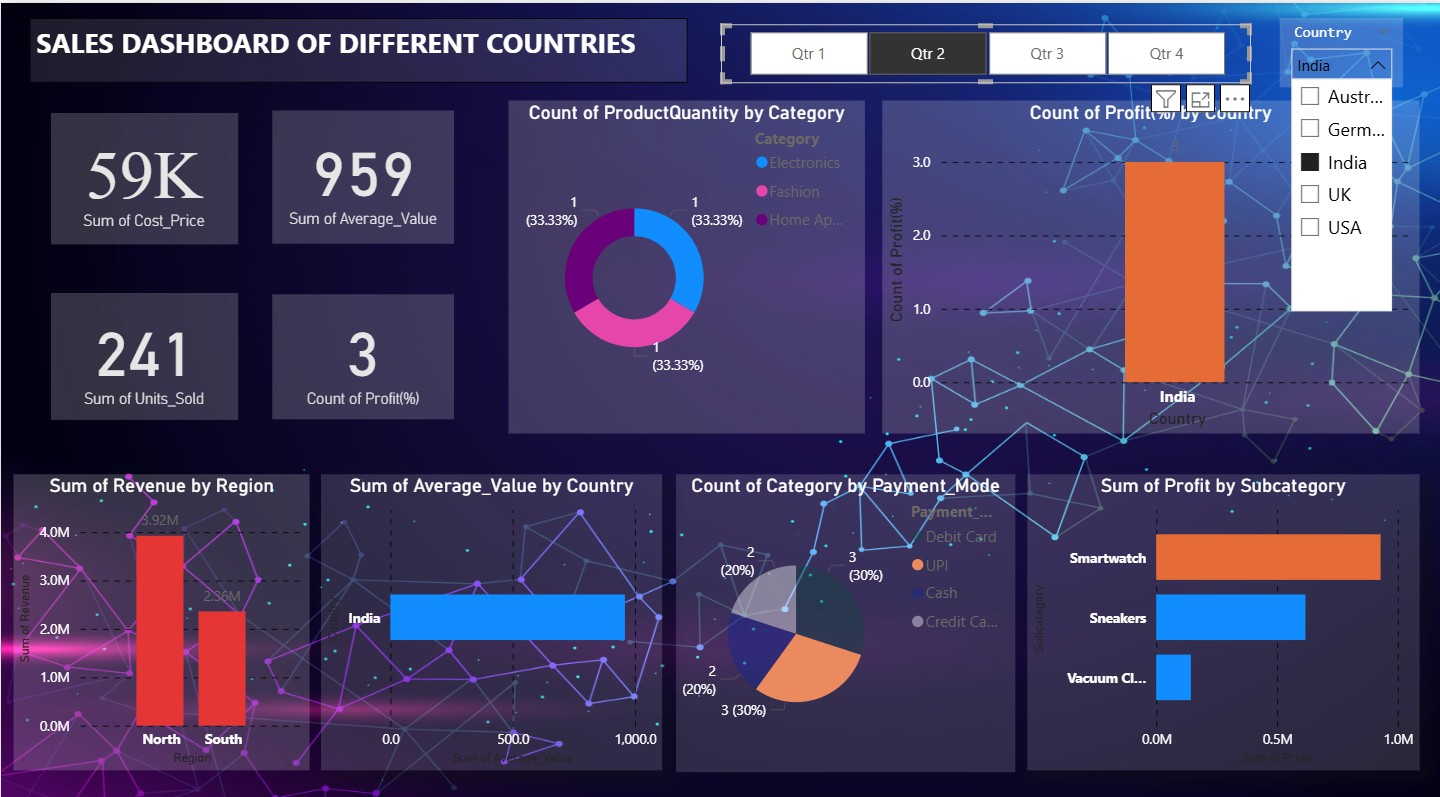

This screenshot's page, from the dashboard's own definition file:
{"tool":"powerbi","page":{"name":"Page 1","canvas":[1280,720],"ordinal":0},"visuals":[{"type":"textbox","box":[26.1,13.7,584.6,57.6],"z":0},{"type":"columnChart","fields":{"Y":["CountNonNull(Sheet1.Profit(%))"],"Category":["Sheet1.Country"]},"box":[783.5,86.4,477.5,296.4],"z":1000},{"type":"barChart","fields":{"Category":["Sheet1.Subcategory"],"Y":["Sum(Sheet1.Profit)"]},"box":[912.5,418.5,348.5,263.5],"z":2000},{"type":"donutChart","fields":{"Category":["Sheet1.Category"],"Y":["CountNonNull(Sheet1.ProductQuantity)"]},"box":[451.5,86.4,317,296.4],"z":3000},{"type":"pieChart","fields":{"Category":["Sheet1.Payment_Mode"],"Y":["CountNonNull(Sheet1.Category)"]},"box":[599.7,418.5,301.9,264.8],"z":4000},{"type":"card","fields":{"Values":["Sum(Sheet1.Cost_Price)"]},"box":[43.9,97.4,166,116.6],"z":5000},{"type":"card","fields":{"Values":["CountNonNull(Sheet1.Profit(%))"]},"box":[241.5,259.3,161.9,111.1],"z":6000},{"type":"card","fields":{"Values":["Sum(Sheet1.Units_Sold)"]},"box":[43.9,258,166,112.5],"z":7000},{"type":"card","fields":{"Values":["Sum(Sheet1.Average_Value)"]},"box":[241.5,96.1,161.9,118],"z":8000},{"type":"barChart","fields":{"Category":["Sheet1.Country"],"Y":["Sum(Sheet1.Average_Value)"]},"box":[284,418.5,303.3,263.5],"z":9000},{"type":"columnChart","fields":{"Y":["Sum(Sheet1.Revenue)"],"Category":["Sheet1.Region"]},"box":[11,418.5,263.5,263.5],"z":10000},{"type":"slicer","fields":{"Values":["Sheet1.Date.Variation.Date Hierarchy.Quarter"]},"box":[639.5,19.2,472,52.1],"z":11000},{"type":"slicer","fields":{"Values":["Sheet1.Country"]},"box":[1136.2,13.7,109.8,61.7],"z":12000}]}

Visuals, with their boxes in screenshot pixels (x1, y1, x2, y2), scaled from the page's 1280x720 canvas onto the 1440x797 screenshot:
textbox: 29/15/687/79
columnChart - CountNonNull(Sheet1.Profit(%)) x Sheet1.Country: 881/96/1419/424
barChart - Sheet1.Subcategory x Sum(Sheet1.Profit): 1027/463/1419/755
donutChart - Sheet1.Category x CountNonNull(Sheet1.ProductQuantity): 508/96/865/424
pieChart - Sheet1.Payment_Mode x CountNonNull(Sheet1.Category): 675/463/1014/756
card - Sum(Sheet1.Cost_Price): 49/108/236/237
card - CountNonNull(Sheet1.Profit(%)): 272/287/454/410
card - Sum(Sheet1.Units_Sold): 49/286/236/410
card - Sum(Sheet1.Average_Value): 272/106/454/237
barChart - Sheet1.Country x Sum(Sheet1.Average_Value): 320/463/661/755
columnChart - Sum(Sheet1.Revenue) x Sheet1.Region: 12/463/309/755
slicer - Sheet1.Date.Variation.Date Hierarchy.Quarter: 719/21/1250/79
slicer - Sheet1.Country: 1278/15/1402/83
